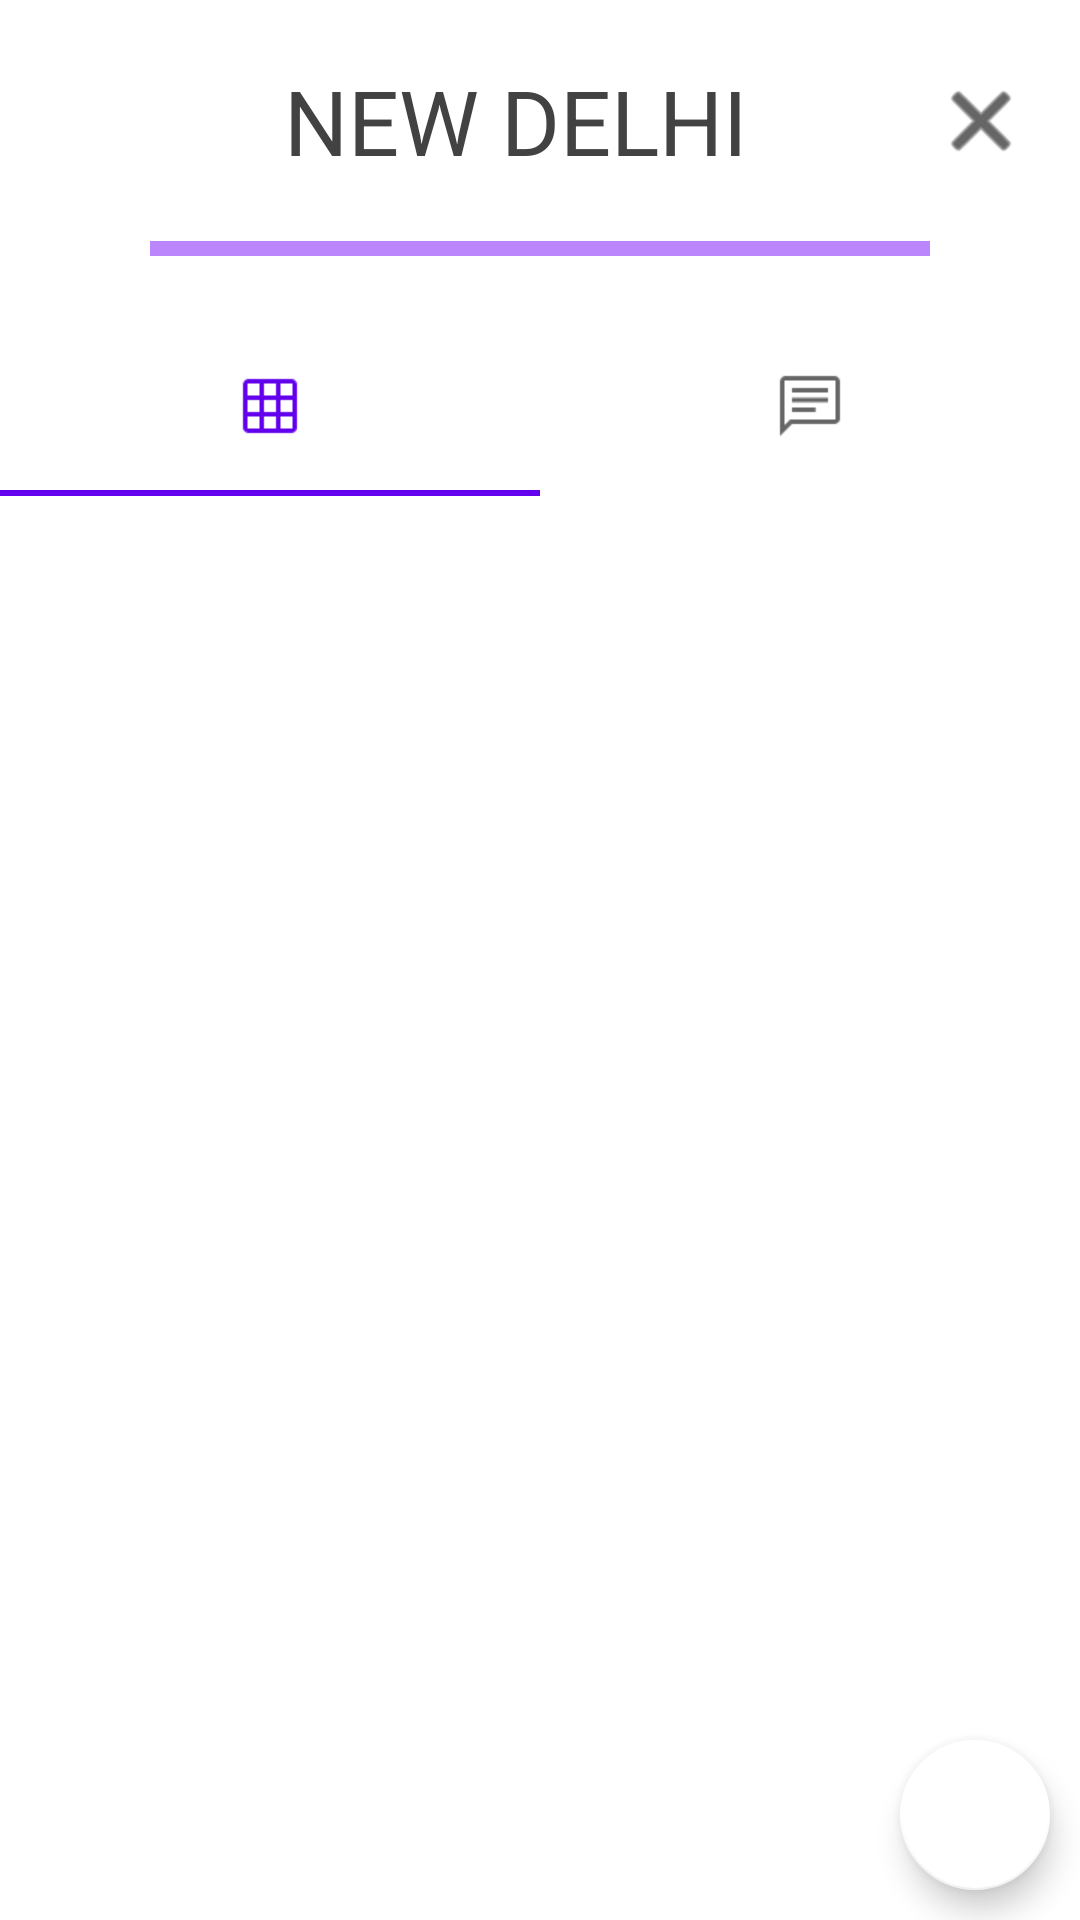

Point at icon controls on the screen. Image size 1080×1920, points as (x=x, y=y).
close clear cancel: (x=981, y=121)
